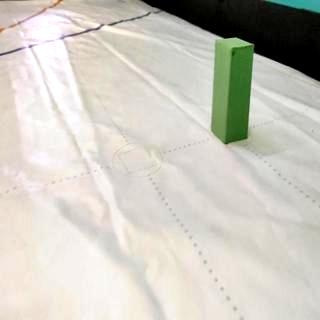greenbox: (212, 36, 256, 146)
